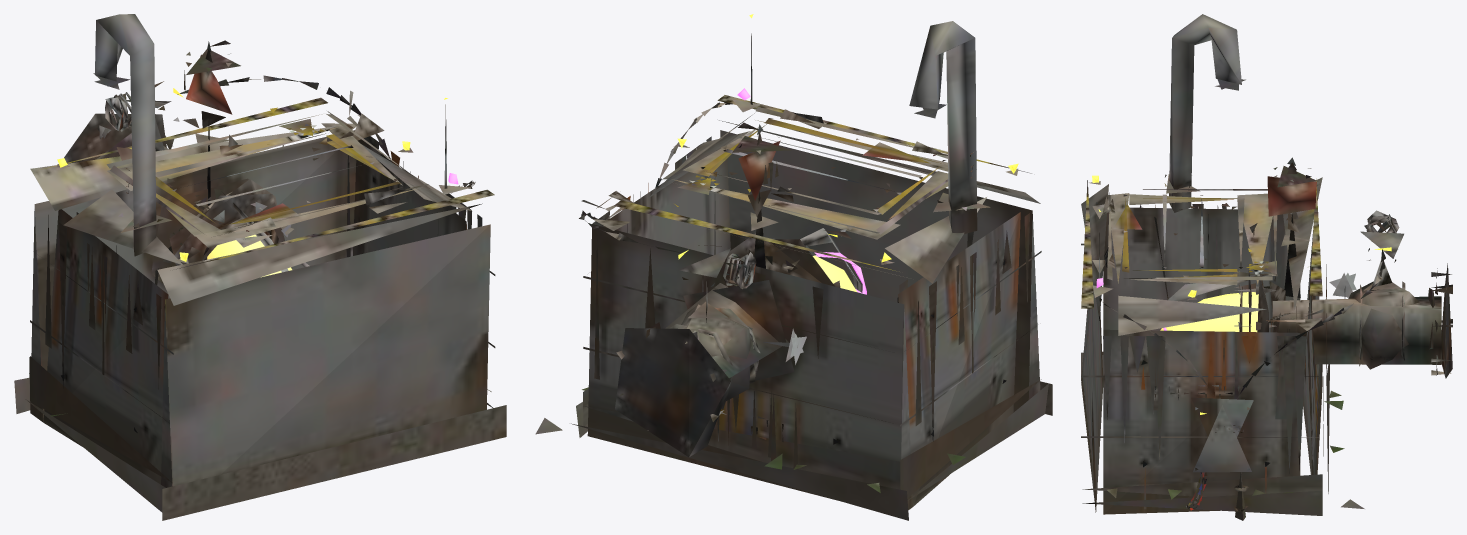
The model's file is cano_subterraneo_saida.glb.
3 views of the same model, side by side, from view 1: azimuth 30°, elevation 25°; view 2: azimuth 150°, elevation 25°; view 3: azimuth 270°, elevation 25° (orthographic). The views are drawn at different scales.
Visible parts, largest first — view 1: cano_subterraneo_saida_corpo; view 2: cano_subterraneo_saida_corpo; view 3: cano_subterraneo_saida_corpo.
Part boxes in pixels (left/top/right/bottom): cano_subterraneo_saida_corpo: left=14, top=14, right=506, bottom=520; cano_subterraneo_saida_corpo: left=535, top=14, right=1052, bottom=520; cano_subterraneo_saida_corpo: left=1081, top=14, right=1452, bottom=520.
Size of the model in its own units: 0.9793 by 1.12 by 1.
4 materials, 1 textured.
